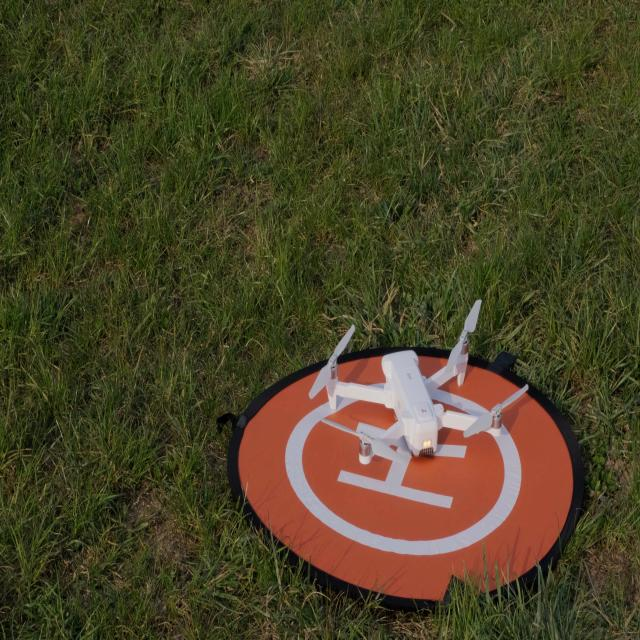drone: (308, 297, 529, 467)
